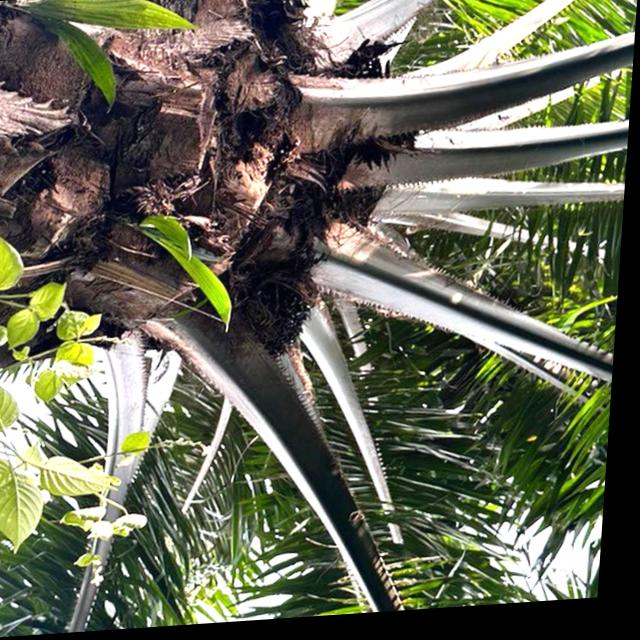unripe: (228, 243, 324, 374)
